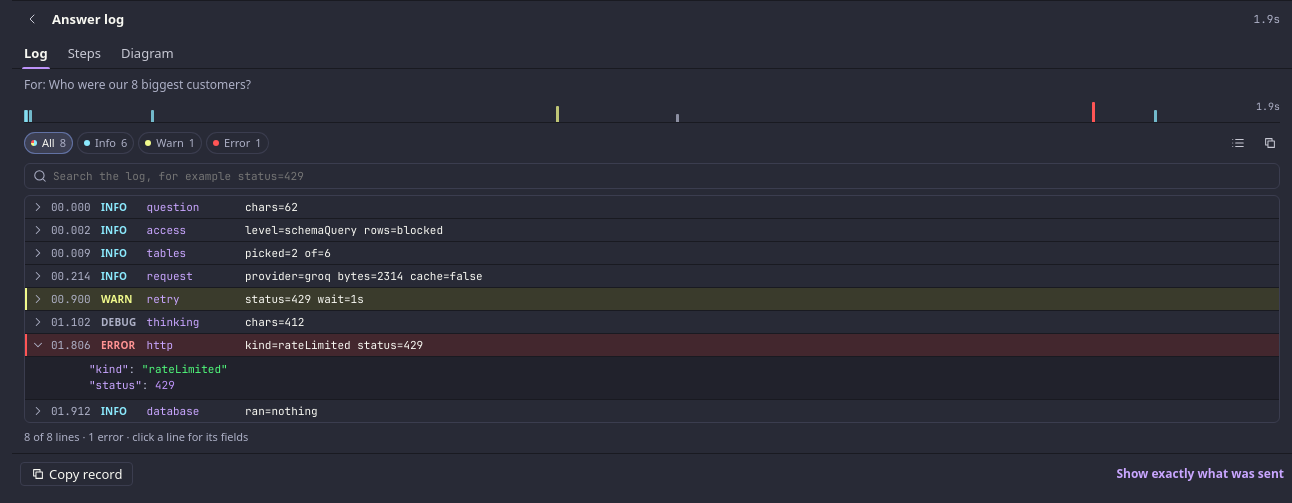
Test: steps_cells_and_rows
The width and height of the screenshot is (1292, 503).
Click the tab "Steps": (84, 52) [58,36,111,68]
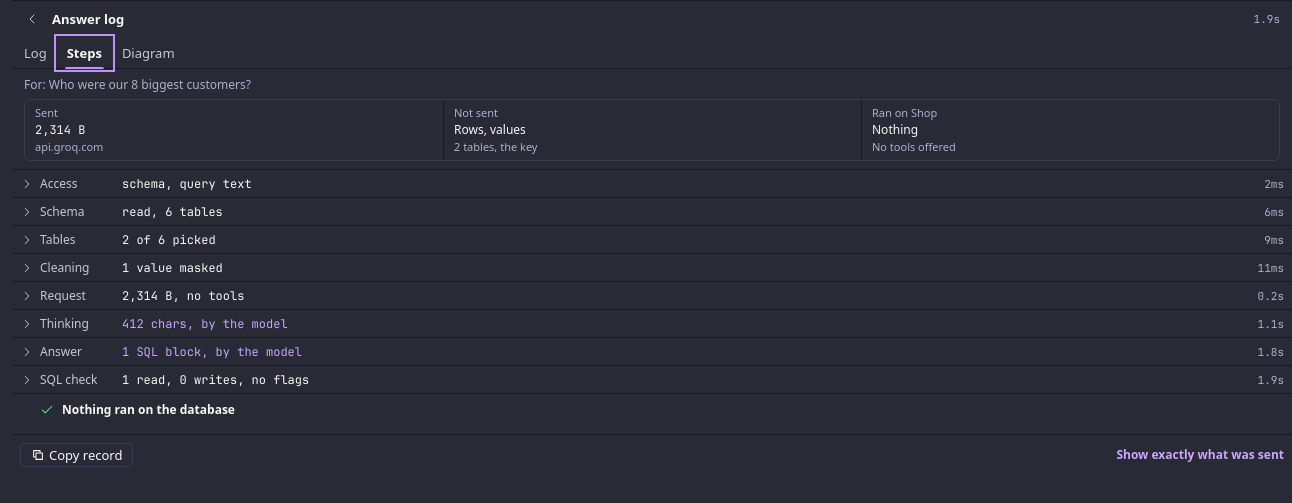
expect the text "Nothing ran on the database" is shown: met, box [40,401,235,418]
